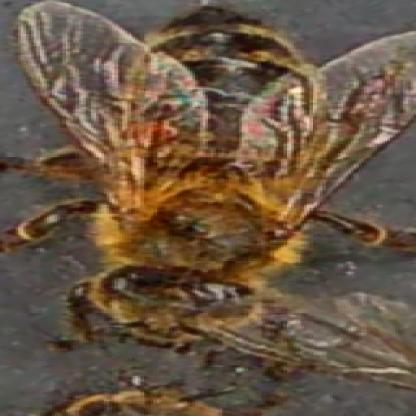bee: (45, 4, 352, 353)
vaoora: (123, 122, 175, 144)
